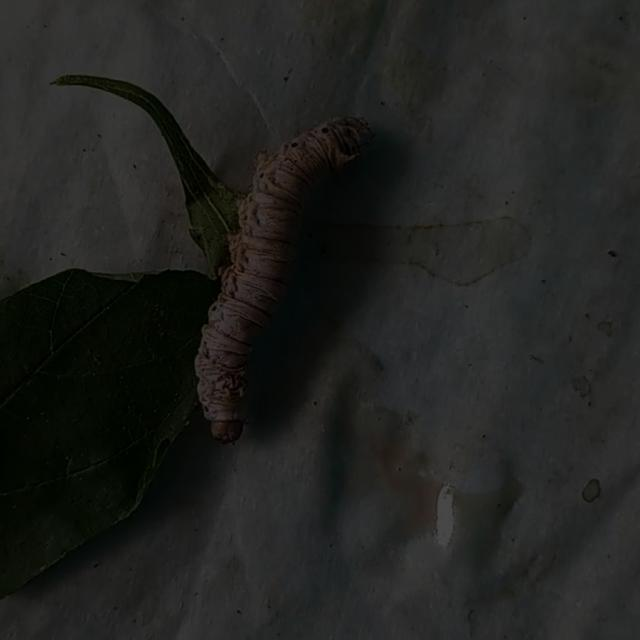Grasserie: (188, 86, 379, 454)
